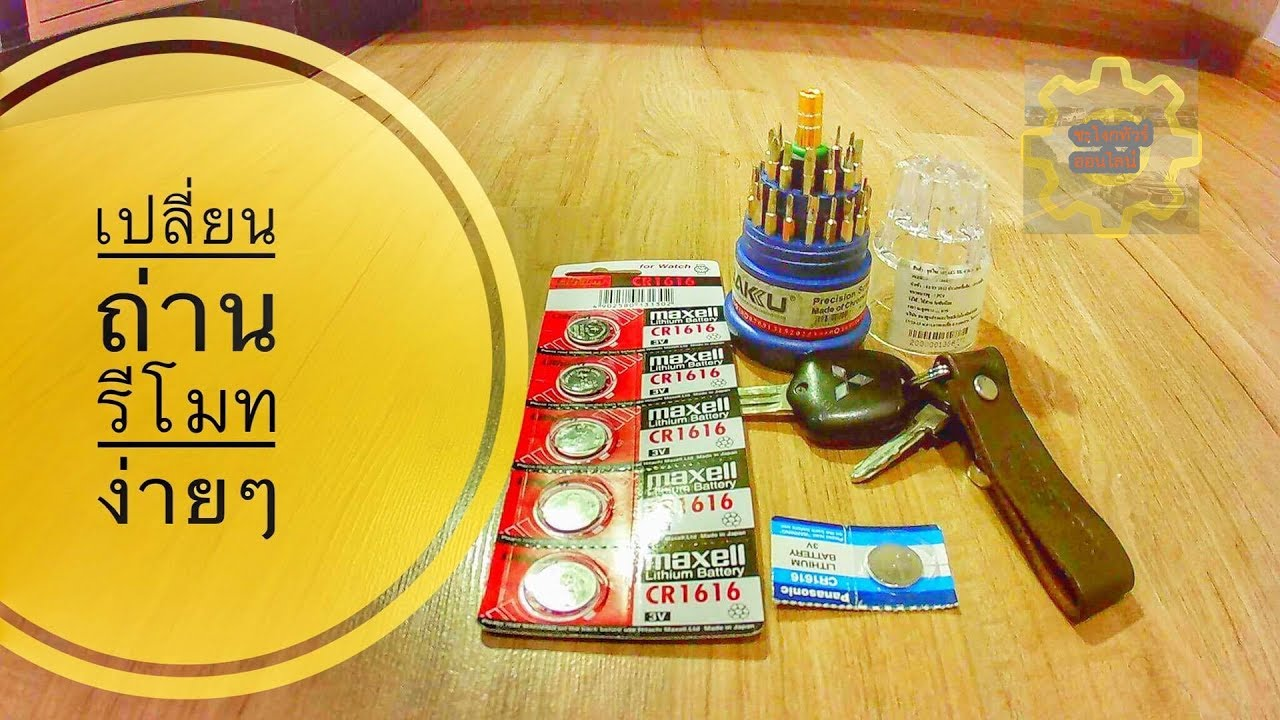Battery: (526, 557, 602, 616), (863, 538, 929, 593), (537, 483, 604, 537), (551, 419, 610, 462), (556, 360, 610, 393), (568, 316, 614, 345)
